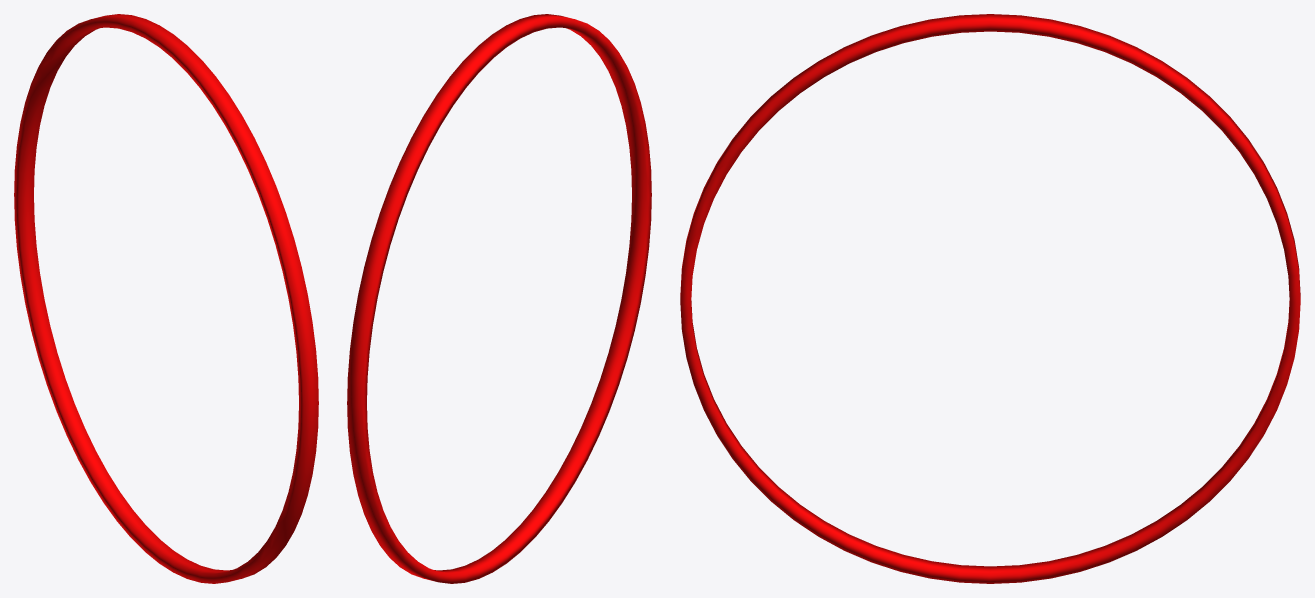
Rendered from rotx.obj.
3 views of the same model, side by side, from view 1: azimuth 30°, elevation 25°; view 2: azimuth 150°, elevation 25°; view 3: azimuth 270°, elevation 25° (orthographic). The views are drawn at different scales.
Visible parts, largest first — view 1: Circle; view 2: Circle; view 3: Circle.
Part boxes in pixels (left/top/right/bottom): Circle: left=14, top=14, right=318, bottom=583; Circle: left=347, top=14, right=651, bottom=583; Circle: left=680, top=14, right=1300, bottom=583.
Bounding box in the file's own units: 0.03 × 1 × 1.
